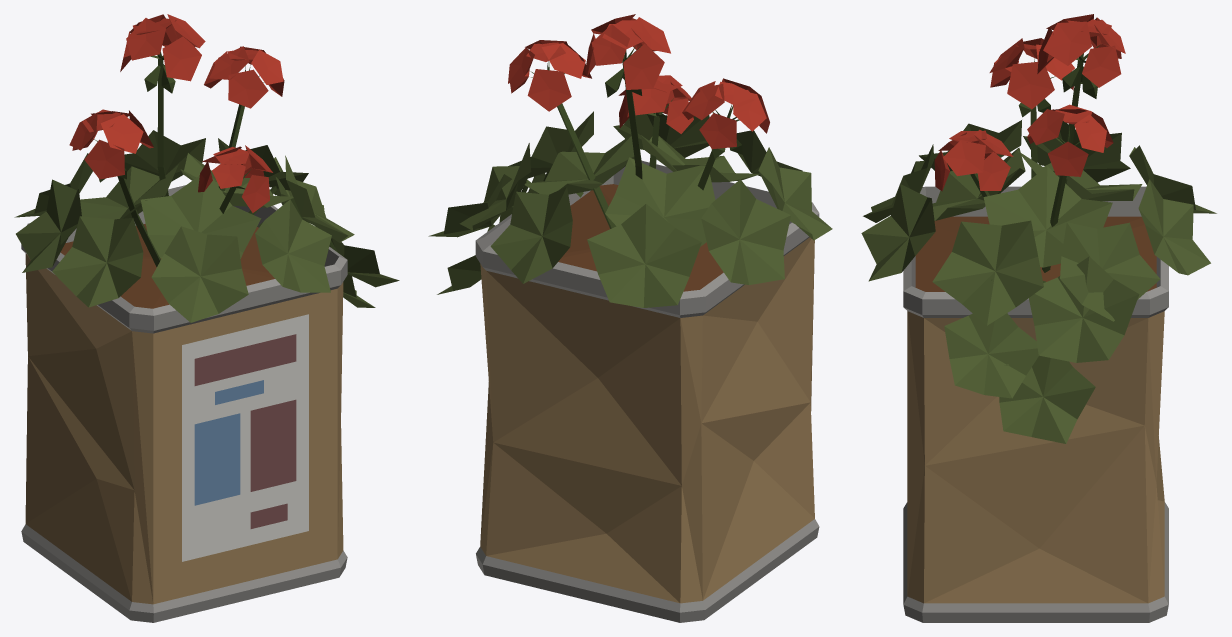
File: geraniums-in-olive-oil-70e682.glb
3 views of the same model, side by side, from view 1: azimuth 30°, elevation 25°; view 2: azimuth 150°, elevation 25°; view 3: azimuth 270°, elevation 25° (orthographic). The views are drawn at different scales.
Parts seen in each view (by area): view 1: tins, geranium-1-stems; view 2: tins, geranium-1-stems; view 3: tins, geranium-1-stems.
Boxes of the visible parts, bbox=[...] form: tins: bbox=[14, 130, 399, 622]; geranium-1-stems: bbox=[69, 14, 284, 266]; tins: bbox=[428, 111, 832, 622]; geranium-1-stems: bbox=[508, 14, 769, 228]; tins: bbox=[861, 120, 1216, 622]; geranium-1-stems: bbox=[934, 14, 1125, 272].
Bounding box in the file's own units: 0.3934 × 0.5892 × 0.3461.
